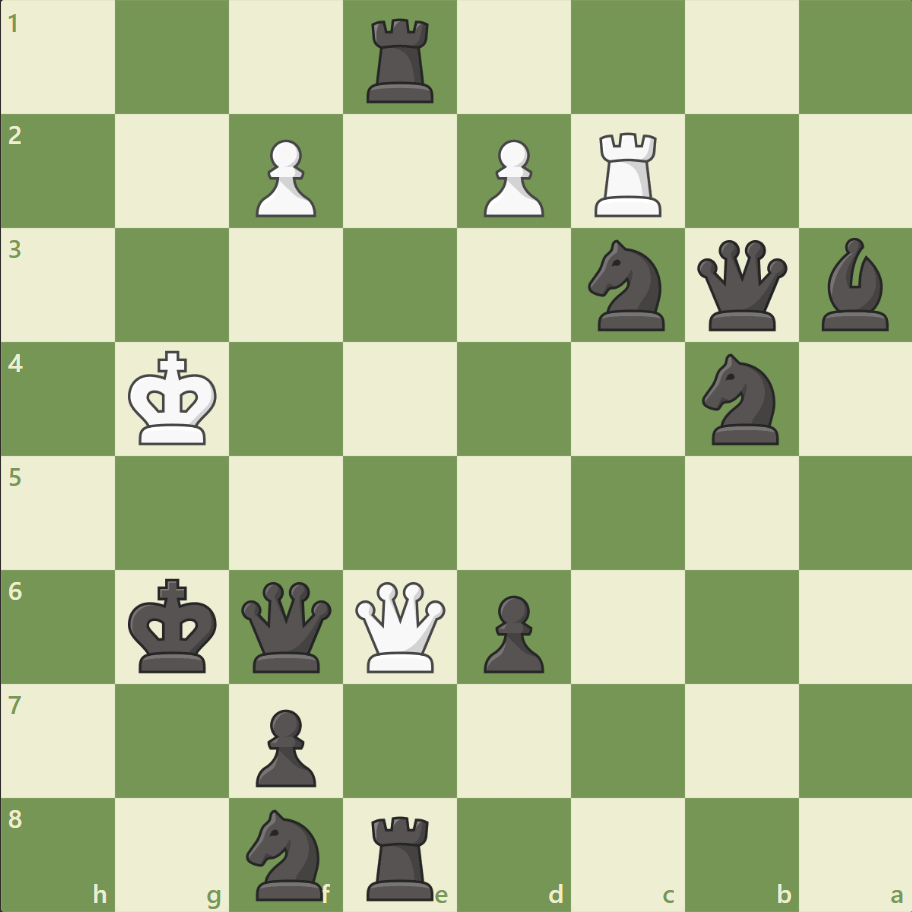K: (124, 344, 224, 452)
P: (474, 132, 549, 223), (247, 132, 322, 223)
Q: (351, 576, 450, 676)
R: (587, 125, 670, 222)
b: (812, 233, 896, 336)
k: (124, 571, 224, 679)
n: (579, 234, 676, 337), (238, 802, 335, 904), (692, 348, 789, 450)
p: (247, 700, 322, 791), (474, 586, 549, 677)
q: (237, 576, 336, 676), (691, 236, 790, 335)
r: (360, 806, 442, 904), (360, 12, 442, 109)
